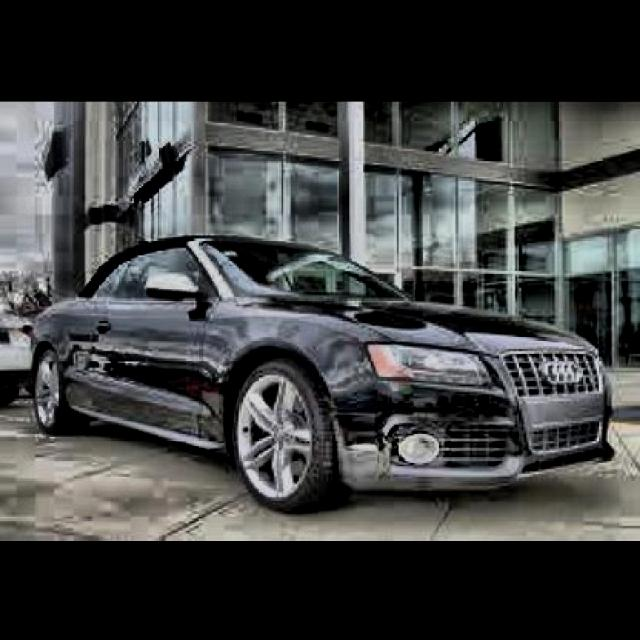black: (0, 200, 623, 481)
